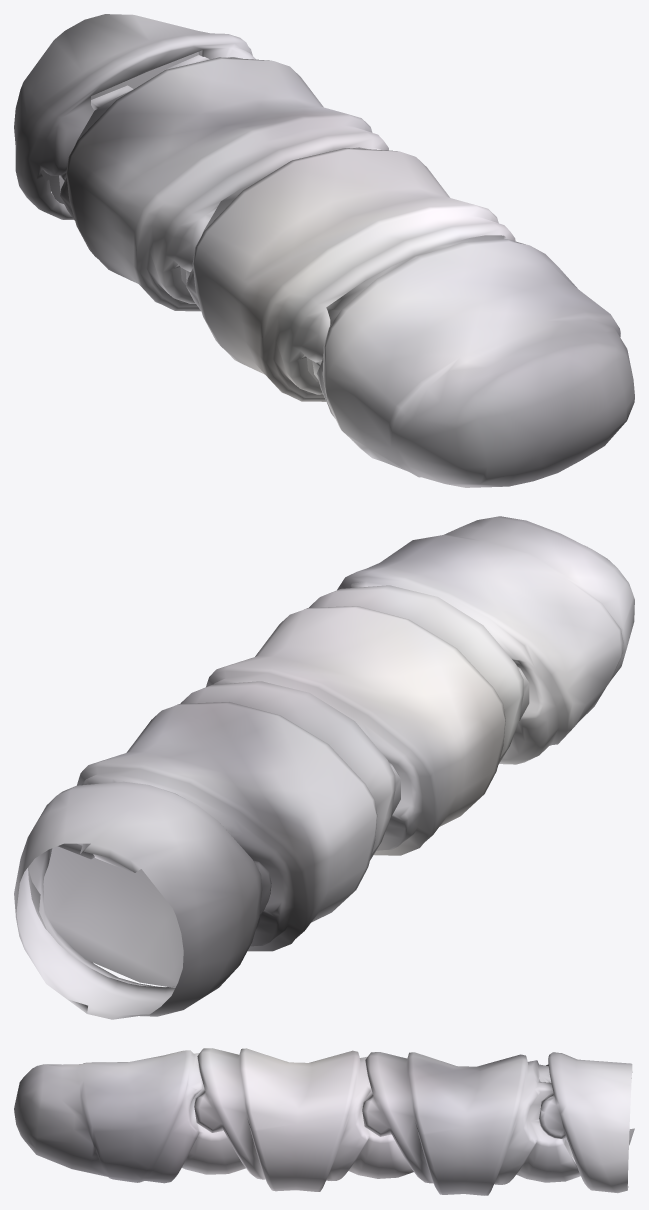
The model's file is doigt2.obj.
3 views of the same model, one above another, from view 1: azimuth 30°, elevation 25°; view 2: azimuth 150°, elevation 25°; view 3: azimuth 270°, elevation 25° (orthographic). The views are drawn at different scales.
Parts seen in each view (by area): view 1: Doigt2_Chest.016; view 2: Doigt2_Chest.016; view 3: Doigt2_Chest.016.
Part boxes in pixels (x1=…): Doigt2_Chest.016: x1=14, y1=14, x2=634, y2=487; Doigt2_Chest.016: x1=14, y1=516, x2=634, y2=1019; Doigt2_Chest.016: x1=14, y1=1048, x2=634, y2=1195.
Size of the model in its own units: 0.1632 by 0.1233 by 0.534.
